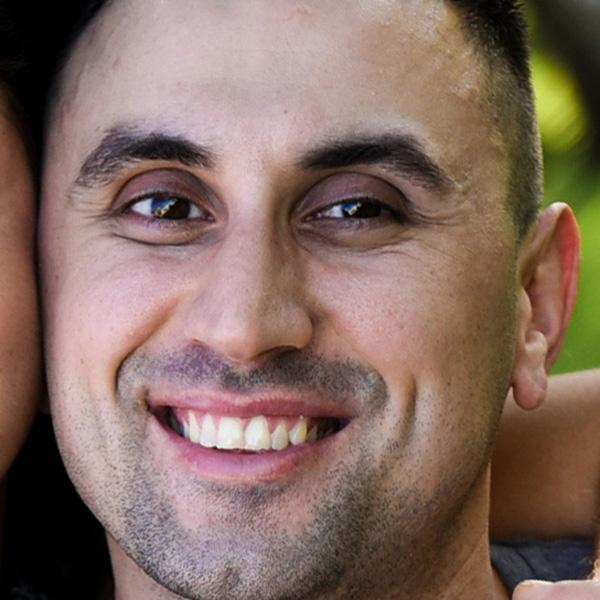Eyes: (99, 159, 231, 244), (296, 164, 422, 249)
